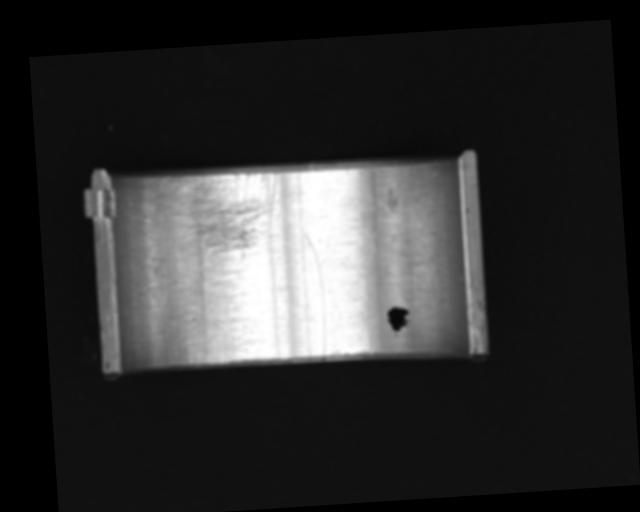blot: (385, 304, 411, 338)
bruise: (384, 185, 400, 212)
nick: (303, 230, 328, 359)
scratch: (162, 166, 284, 266)
